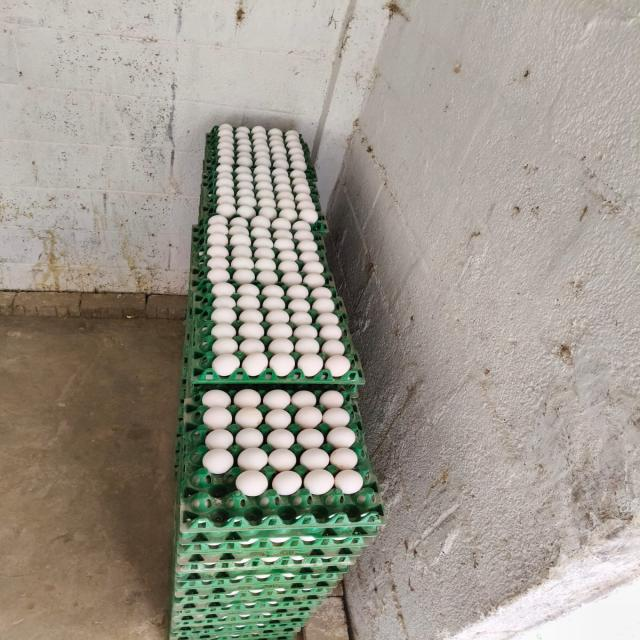egg_tray: (181, 389, 382, 528), (174, 420, 385, 552), (185, 388, 366, 497), (190, 283, 363, 385), (173, 510, 383, 593), (175, 510, 383, 582), (195, 245, 347, 340), (190, 306, 363, 386), (176, 528, 374, 592), (184, 327, 363, 395), (201, 131, 325, 229), (172, 556, 348, 618), (174, 527, 372, 582), (189, 215, 332, 288), (176, 512, 382, 561), (189, 218, 333, 288), (191, 336, 363, 393), (175, 510, 384, 556), (191, 338, 363, 392), (174, 548, 364, 596), (172, 548, 361, 596), (199, 161, 326, 232), (198, 165, 326, 233), (198, 164, 326, 232), (192, 214, 326, 278), (198, 169, 327, 235), (172, 551, 350, 598), (199, 169, 326, 234), (173, 547, 361, 590), (198, 172, 322, 237), (178, 513, 383, 550), (192, 214, 325, 271), (190, 214, 326, 269), (199, 164, 325, 223), (189, 269, 345, 316), (189, 282, 348, 327), (189, 246, 335, 293), (172, 585, 334, 626), (175, 548, 361, 582), (205, 123, 315, 180), (172, 585, 334, 623), (174, 554, 355, 588), (203, 128, 316, 182), (172, 587, 334, 624), (203, 130, 316, 183), (171, 592, 330, 629), (203, 132, 316, 184), (203, 131, 315, 183), (174, 546, 364, 576), (171, 596, 324, 633), (177, 535, 372, 564), (171, 592, 327, 627), (172, 584, 335, 617), (205, 123, 313, 172), (177, 530, 377, 556), (205, 123, 311, 170), (171, 594, 324, 626), (172, 578, 339, 606), (171, 594, 325, 624), (172, 580, 337, 608), (174, 570, 345, 596), (173, 570, 344, 596), (173, 554, 358, 578), (171, 602, 314, 632), (172, 584, 335, 610), (174, 338, 202, 485), (172, 595, 324, 622), (197, 210, 325, 242), (172, 600, 322, 627), (196, 211, 325, 241), (171, 613, 309, 640), (174, 301, 194, 482), (171, 614, 308, 640), (170, 615, 308, 640), (174, 301, 193, 481), (171, 609, 312, 633), (174, 302, 193, 478), (169, 616, 308, 640), (170, 616, 308, 640), (171, 616, 308, 640), (172, 585, 334, 605), (175, 370, 203, 479), (170, 618, 304, 640), (177, 293, 196, 439), (203, 148, 257, 199), (201, 160, 257, 204), (170, 623, 301, 640), (220, 606, 317, 626), (178, 300, 194, 417), (178, 300, 194, 415), (180, 292, 197, 396), (175, 516, 219, 554), (186, 284, 212, 348), (170, 628, 297, 640), (171, 608, 218, 640), (181, 294, 196, 393), (180, 299, 194, 401), (181, 295, 195, 395), (189, 225, 211, 288), (179, 321, 193, 418), (269, 165, 316, 192), (174, 378, 186, 478), (170, 631, 297, 640), (263, 164, 316, 185), (174, 400, 187, 485), (187, 579, 237, 600), (170, 632, 297, 640), (272, 574, 339, 587), (174, 413, 186, 484), (183, 290, 195, 356), (183, 292, 195, 355), (267, 578, 326, 590), (190, 225, 205, 269), (185, 386, 205, 418), (272, 475, 302, 496), (187, 323, 223, 339), (205, 125, 219, 160), (350, 414, 363, 442), (174, 430, 181, 478), (214, 294, 245, 304), (186, 298, 193, 342), (237, 560, 259, 574), (177, 427, 190, 448), (199, 560, 229, 569), (180, 377, 194, 395), (177, 450, 186, 478), (333, 526, 354, 536), (187, 398, 198, 415), (314, 566, 345, 572), (190, 246, 199, 265), (238, 584, 257, 593), (332, 365, 346, 377), (340, 385, 356, 395), (234, 322, 246, 335), (206, 572, 225, 580), (252, 204, 282, 209), (297, 582, 321, 588), (232, 322, 245, 333), (303, 337, 323, 344), (185, 344, 193, 360), (337, 526, 351, 535), (293, 581, 311, 588), (190, 387, 201, 398), (219, 597, 232, 606), (215, 578, 226, 588), (244, 532, 259, 539), (278, 569, 295, 575), (290, 529, 304, 536), (214, 593, 228, 600), (186, 323, 193, 336), (259, 266, 276, 271), (244, 532, 258, 538), (190, 270, 196, 284), (273, 342, 283, 350), (194, 602, 207, 608), (327, 343, 339, 349), (206, 602, 218, 608), (257, 634, 269, 640), (289, 385, 299, 392), (295, 342, 305, 349), (312, 558, 329, 562), (270, 606, 283, 611), (275, 234, 291, 238), (207, 534, 216, 541), (176, 490, 179, 510), (263, 517, 275, 522), (263, 280, 277, 284), (261, 387, 269, 394), (325, 340, 339, 344), (356, 527, 364, 534), (179, 406, 183, 420), (178, 405, 183, 416), (241, 246, 250, 252), (199, 272, 206, 279), (297, 322, 313, 325), (349, 344, 354, 353), (204, 612, 215, 616), (271, 606, 282, 610), (367, 477, 374, 483), (284, 635, 292, 640), (257, 231, 265, 236), (185, 575, 195, 579), (273, 314, 283, 318), (327, 330, 336, 334), (364, 531, 373, 535), (223, 540, 230, 545), (263, 212, 270, 217), (183, 359, 187, 367), (179, 478, 183, 486), (207, 536, 215, 540), (195, 504, 201, 509), (246, 610, 252, 615), (349, 555, 354, 561), (273, 583, 283, 586), (281, 221, 287, 226), (177, 492, 179, 507), (345, 341, 350, 347), (174, 612, 180, 617), (300, 316, 307, 320), (218, 313, 225, 317), (316, 225, 321, 230), (264, 325, 269, 330), (201, 519, 206, 524), (376, 514, 380, 520), (222, 596, 228, 600), (318, 378, 326, 381), (312, 570, 318, 574), (271, 616, 277, 620), (213, 251, 221, 254), (185, 532, 189, 538), (263, 323, 269, 327), (220, 620, 227, 623), (185, 469, 192, 472), (177, 427, 179, 437), (212, 603, 217, 607), (331, 352, 341, 354), (291, 261, 295, 266), (202, 628, 207, 632), (292, 336, 297, 340), (244, 567, 250, 570), (272, 503, 278, 506), (306, 358, 315, 360), (305, 616, 308, 622), (341, 566, 347, 569), (284, 514, 288, 518), (315, 501, 323, 503), (369, 474, 373, 478), (185, 533, 189, 537), (345, 336, 349, 340), (279, 358, 287, 360), (217, 227, 221, 231), (273, 531, 277, 535), (316, 392, 320, 396), (194, 396, 197, 401), (335, 359, 340, 362), (181, 381, 186, 384), (183, 360, 186, 365), (183, 373, 188, 376), (230, 573, 235, 576), (250, 558, 255, 561), (263, 618, 270, 620), (239, 171, 245, 173), (340, 567, 346, 569), (185, 550, 189, 553), (209, 277, 212, 281), (217, 500, 221, 503), (316, 392, 322, 394), (202, 519, 206, 522), (367, 539, 370, 543), (201, 520, 205, 523), (273, 616, 276, 620), (213, 250, 219, 252), (259, 141, 262, 145), (228, 582, 234, 584), (301, 274, 305, 277), (177, 584, 180, 588), (190, 425, 194, 428), (286, 346, 289, 350), (195, 330, 198, 334), (354, 355, 356, 360), (240, 171, 245, 173), (177, 507, 179, 512), (202, 231, 204, 236), (254, 588, 259, 590), (179, 405, 181, 410), (259, 298, 261, 303), (207, 299, 210, 302), (201, 274, 204, 277), (260, 499, 263, 502), (229, 485, 232, 488), (234, 536, 237, 539), (221, 374, 230, 375), (319, 582, 322, 585), (195, 398, 198, 401), (220, 619, 223, 622), (190, 565, 193, 568), (263, 568, 267, 570), (303, 504, 307, 506), (318, 338, 322, 340), (177, 429, 179, 433), (254, 358, 258, 360), (302, 612, 306, 614), (308, 270, 312, 272), (222, 266, 226, 268), (239, 132, 243, 134), (366, 522, 370, 524), (181, 558, 185, 560), (234, 536, 238, 538), (183, 390, 185, 394), (332, 340, 340, 341), (331, 558, 335, 560), (350, 556, 352, 560), (286, 247, 293, 248), (327, 322, 330, 324), (327, 317, 330, 319), (240, 267, 246, 268), (330, 499, 332, 502), (359, 498, 362, 500), (345, 392, 347, 395), (230, 392, 232, 395), (221, 534, 223, 537), (274, 532, 277, 534), (330, 325, 333, 327), (179, 408, 182, 410), (316, 262, 319, 264), (268, 249, 271, 251), (262, 569, 268, 570), (290, 141, 293, 143), (203, 241, 205, 244), (180, 558, 183, 560), (281, 270, 284, 272), (192, 261, 194, 264), (183, 371, 186, 373), (287, 346, 289, 349), (214, 216, 217, 218), (233, 134, 235, 137), (212, 263, 214, 266), (307, 257, 309, 260), (247, 212, 250, 214), (325, 542, 328, 544), (263, 167, 268, 168), (201, 618, 206, 619), (278, 375, 283, 376), (183, 601, 188, 602), (236, 623, 241, 624), (193, 558, 195, 560), (250, 514, 252, 516), (325, 322, 327, 324), (261, 504, 263, 506), (344, 404, 346, 406), (221, 537, 223, 539), (263, 390, 267, 391), (195, 351, 197, 353), (324, 334, 326, 336), (226, 602, 228, 604), (199, 608, 203, 609), (348, 380, 352, 381), (225, 358, 229, 359), (324, 350, 326, 352), (232, 250, 234, 252), (231, 620, 233, 622), (273, 538, 277, 539), (203, 238, 205, 240), (271, 268, 273, 270), (213, 265, 217, 266), (268, 572, 270, 574), (305, 569, 309, 570), (260, 554, 262, 556), (185, 440, 187, 442), (207, 558, 209, 560), (222, 622, 225, 623), (332, 436, 333, 439), (290, 392, 293, 393), (225, 387, 228, 388), (370, 533, 373, 534), (249, 603, 252, 604), (303, 227, 306, 228), (210, 304, 211, 306), (271, 276, 272, 278), (263, 392, 265, 393), (325, 349, 327, 350), (240, 336, 242, 337), (192, 638, 193, 640), (266, 612, 268, 613), (351, 376, 353, 377), (307, 375, 309, 376), (281, 367, 282, 369), (283, 362, 284, 364), (340, 348, 341, 350), (249, 609, 251, 610), (231, 622, 233, 623), (205, 246, 206, 248), (212, 229, 213, 231), (336, 582, 337, 584), (301, 272, 303, 273), (242, 325, 244, 326), (240, 585, 242, 586), (298, 225, 300, 226), (267, 212, 268, 214), (232, 126, 233, 128), (265, 338, 267, 339), (299, 265, 301, 266), (261, 570, 263, 571), (194, 591, 196, 592), (258, 627, 260, 628), (242, 602, 244, 603), (333, 585, 335, 586), (281, 338, 282, 340), (282, 339, 284, 340), (274, 130, 276, 131), (197, 564, 198, 566), (238, 545, 239, 546), (316, 278, 317, 279), (191, 427, 192, 428), (318, 392, 319, 393), (262, 391, 263, 392), (332, 361, 333, 362), (347, 356, 348, 357), (349, 341, 350, 342), (256, 603, 257, 604), (226, 158, 227, 159), (229, 556, 230, 557), (297, 474, 297, 474), (333, 568, 335, 568), (290, 276, 290, 277), (374, 487, 374, 488), (210, 441, 210, 442), (261, 425, 261, 426), (294, 338, 294, 339), (290, 328, 290, 328), (177, 430, 177, 434), (220, 579, 222, 579), (201, 522, 201, 524), (185, 601, 187, 601), (286, 610, 286, 610), (281, 336, 286, 336), (284, 250, 286, 250), (214, 576, 222, 576), (270, 618, 270, 619), (260, 172, 262, 172), (316, 585, 321, 585), (252, 514, 252, 516), (222, 623, 224, 623), (202, 581, 204, 581), (264, 574, 266, 574), (330, 552, 330, 552), (266, 283, 268, 283), (319, 272, 323, 272), (325, 264, 325, 265), (241, 332, 241, 332), (301, 238, 301, 239), (201, 232, 201, 232), (336, 341, 337, 341), (207, 638, 207, 640), (219, 572, 219, 572), (290, 270, 292, 270), (269, 223, 270, 223), (290, 636, 290, 638), (249, 572, 250, 572), (185, 448, 186, 448), (341, 574, 343, 574), (259, 574, 262, 574), (268, 570, 270, 570), (218, 590, 219, 590), (281, 585, 281, 586), (239, 603, 240, 603), (327, 571, 327, 572), (333, 338, 337, 338), (224, 318, 225, 318), (196, 603, 197, 603), (198, 534, 201, 534), (326, 341, 327, 341), (298, 630, 298, 630), (294, 628, 295, 628)
